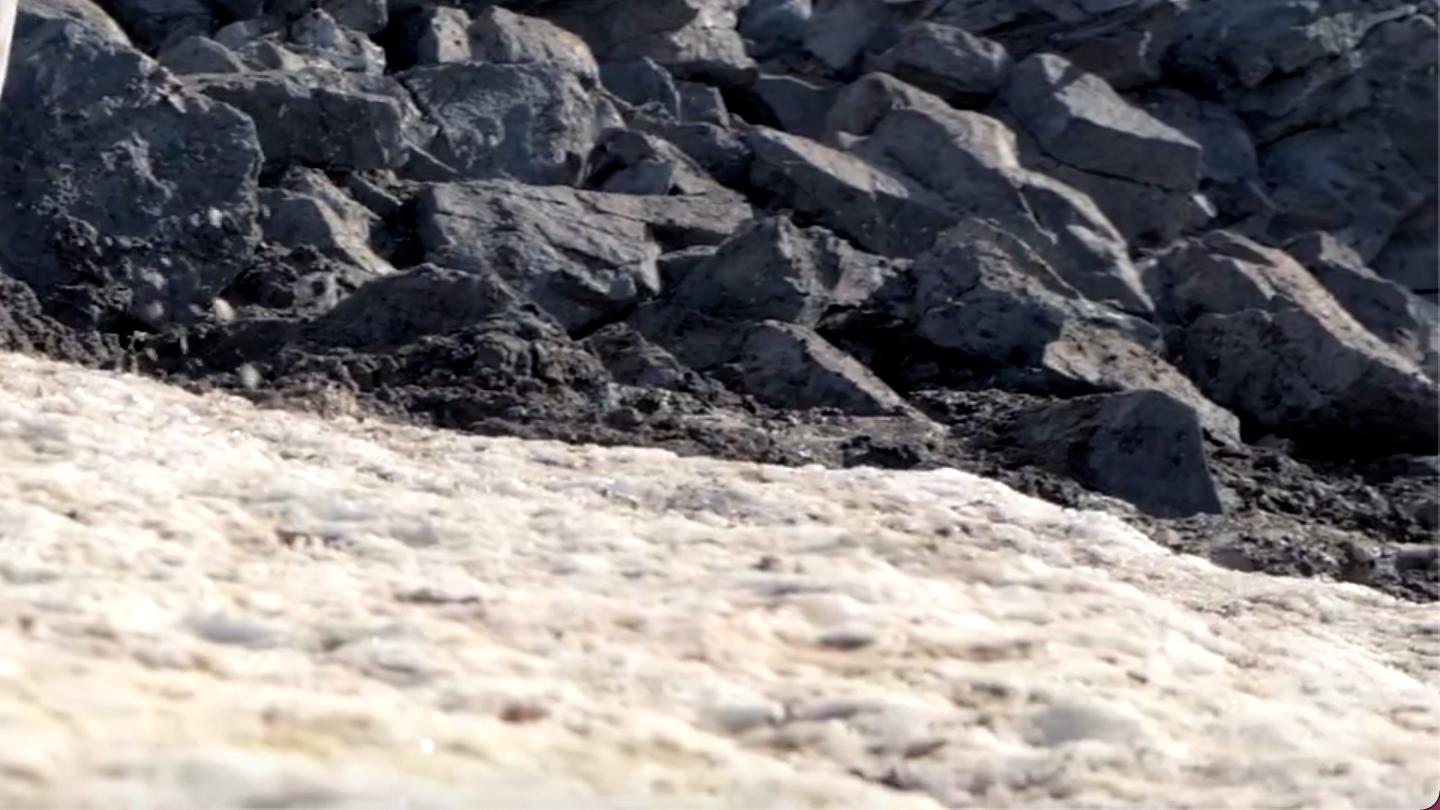Chinstrap Penguin: (0, 0, 131, 274)
